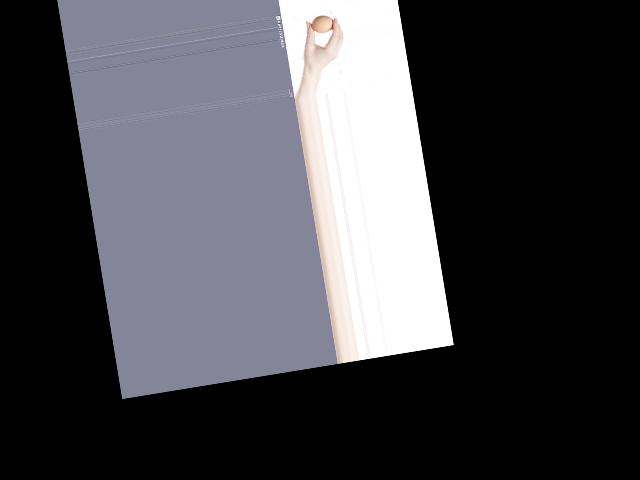egg: (310, 14, 334, 35)
